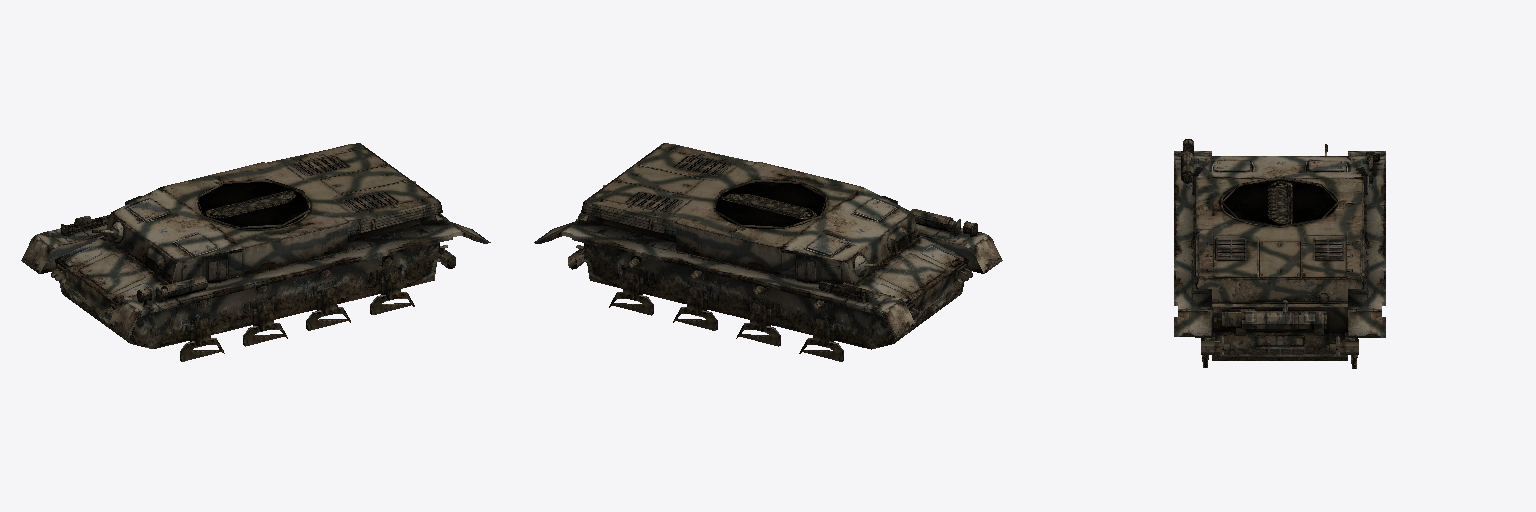
The picture shows the model from 3 angles: view 1: azimuth 30°, elevation 25°; view 2: azimuth 150°, elevation 25°; view 3: azimuth 270°, elevation 25°; orthographic projection.
Visible parts, largest first — view 1: DrawCall_0_DrawCall_0.002; view 2: DrawCall_0_DrawCall_0.002; view 3: DrawCall_0_DrawCall_0.002.
Part boxes in pixels (bbox=[...]): DrawCall_0_DrawCall_0.002: bbox=[21, 143, 490, 361]; DrawCall_0_DrawCall_0.002: bbox=[534, 143, 1002, 361]; DrawCall_0_DrawCall_0.002: bbox=[1174, 139, 1385, 368].
Bounding box in the file's own units: 12.29 × 3.46 × 6.18.
2 materials, 1 textured.